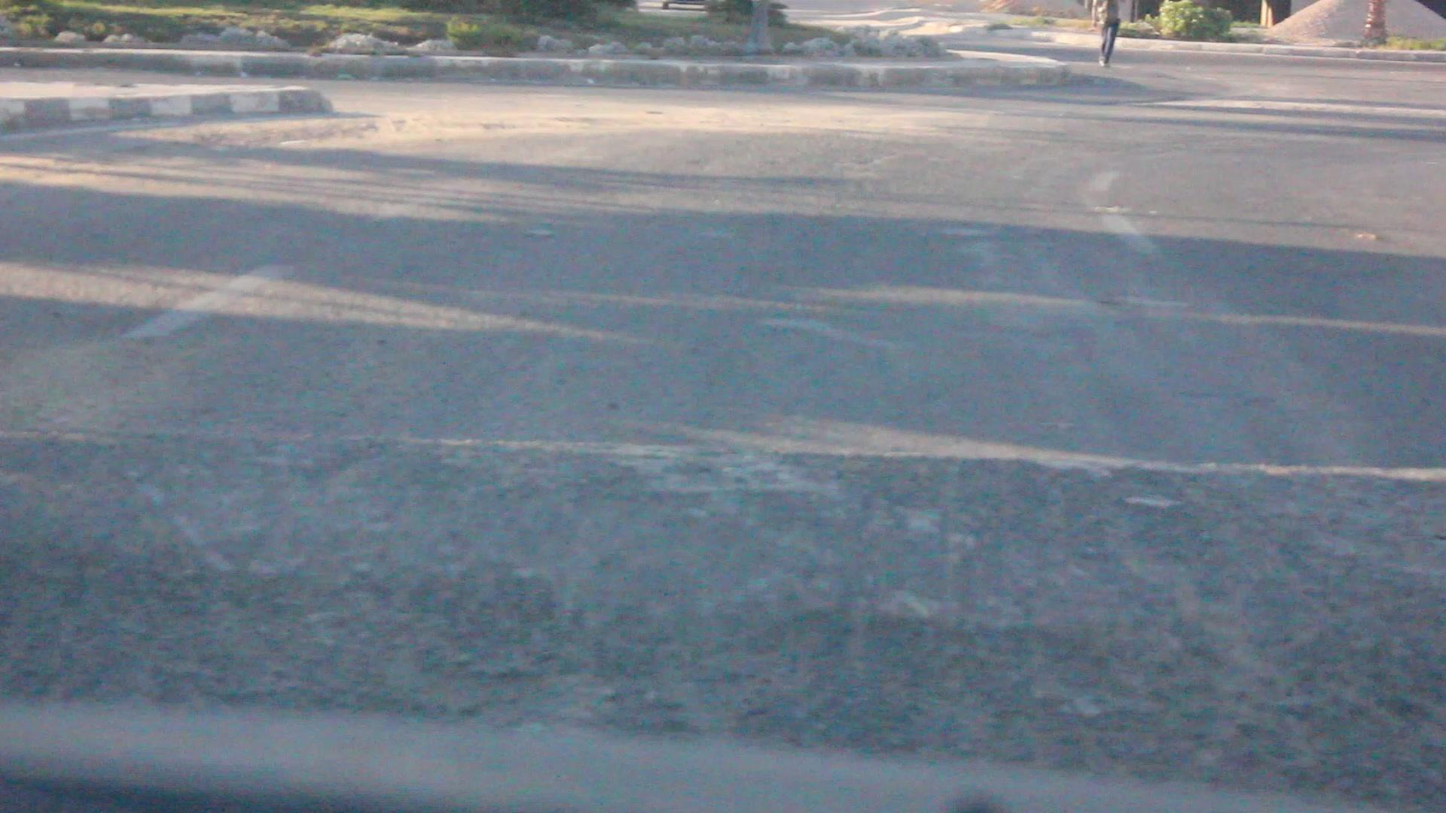Bump: (6, 399, 1446, 813)
